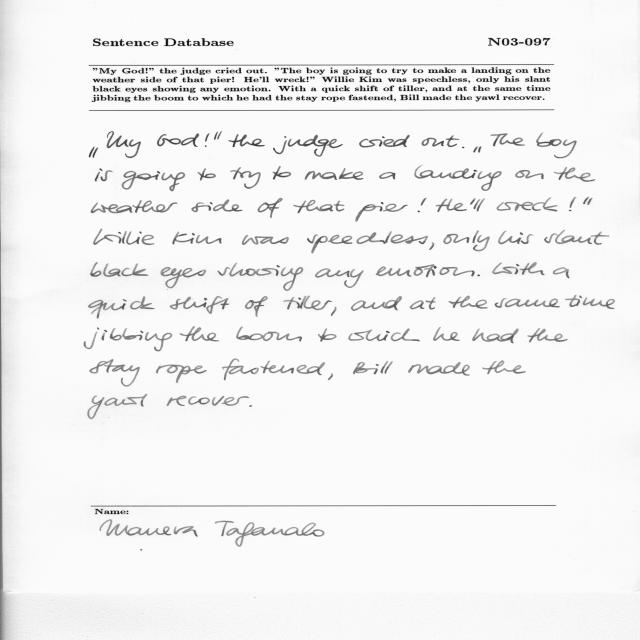word: (307, 231, 428, 254), (218, 263, 304, 291), (414, 166, 502, 191), (222, 359, 325, 380), (84, 328, 172, 352), (273, 135, 343, 157), (88, 394, 147, 419), (89, 297, 155, 319), (90, 359, 140, 387), (376, 264, 475, 277), (122, 171, 185, 191), (91, 200, 178, 213), (170, 296, 229, 314), (355, 202, 408, 222), (536, 133, 577, 158), (236, 327, 302, 342), (443, 231, 490, 252), (315, 268, 364, 288), (544, 230, 609, 245), (94, 229, 154, 245), (156, 365, 206, 384), (161, 267, 206, 288), (348, 329, 420, 342), (107, 131, 141, 158), (408, 362, 470, 376), (91, 262, 148, 277), (497, 198, 558, 212), (167, 396, 249, 406), (351, 296, 402, 311), (305, 168, 364, 180), (472, 329, 519, 344), (283, 296, 332, 310), (230, 167, 261, 189), (293, 200, 345, 213), (493, 262, 545, 275), (192, 200, 243, 213), (494, 298, 560, 308), (565, 296, 615, 309), (173, 232, 222, 245), (482, 361, 526, 375), (554, 167, 595, 182), (359, 135, 410, 147), (180, 327, 220, 342), (157, 133, 199, 147), (527, 328, 568, 342), (436, 198, 476, 212), (257, 198, 283, 218), (353, 361, 393, 374), (449, 296, 488, 309), (245, 296, 268, 317), (228, 135, 265, 148), (242, 235, 289, 245), (498, 231, 533, 244), (422, 135, 459, 147), (491, 134, 525, 147), (433, 327, 460, 341), (410, 297, 436, 310), (318, 328, 337, 342), (515, 170, 544, 179), (273, 166, 292, 179), (96, 169, 114, 182), (198, 168, 216, 181), (553, 267, 570, 278), (473, 199, 485, 212), (417, 198, 427, 212), (379, 172, 396, 179), (89, 146, 98, 158), (569, 198, 576, 211), (214, 131, 222, 140), (583, 197, 592, 205), (205, 133, 210, 147), (473, 147, 482, 153), (429, 242, 435, 250), (331, 307, 336, 316), (328, 373, 333, 380), (478, 275, 481, 277), (249, 405, 252, 407), (462, 147, 464, 148)
